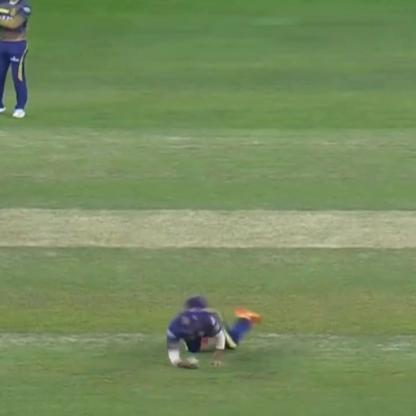ball: (185, 354, 199, 366)
